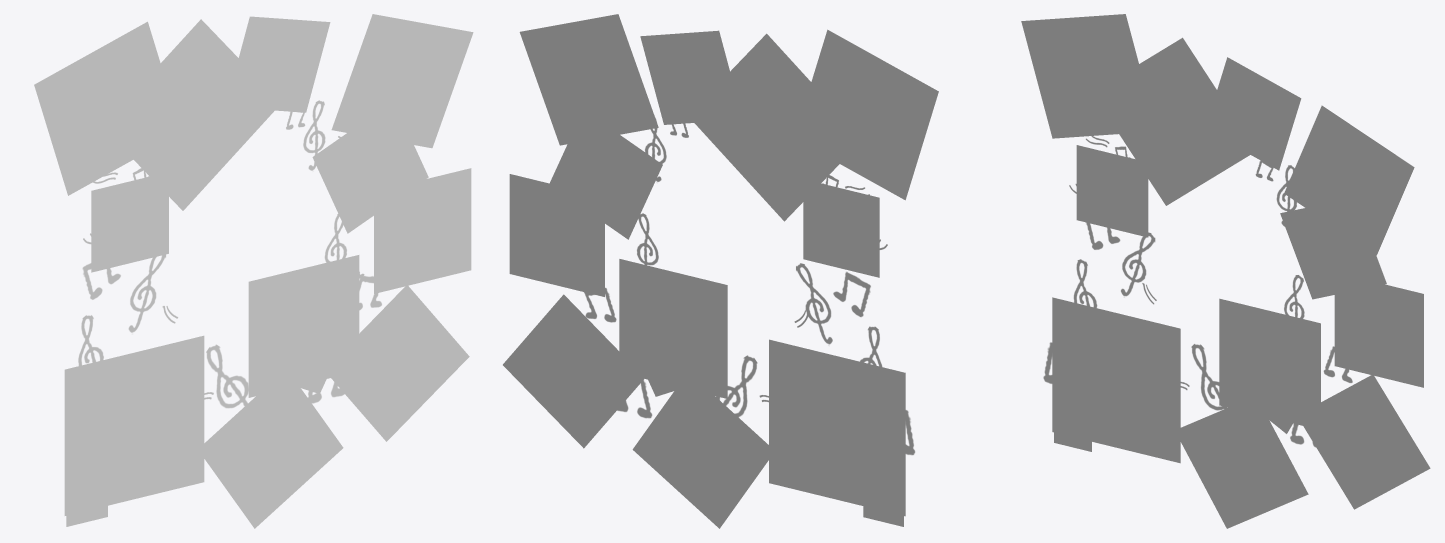
The picture shows the model from 3 angles, left to right: view 1: azimuth 30°, elevation 25°; view 2: azimuth 150°, elevation 25°; view 3: azimuth 330°, elevation 25°; orthographic projection. The views are drawn at different scales.
Parts seen in each view (by area): view 1: Zeichenfläche 2.001, Zeichenfläche 2.010, Zeichenfläche 2.012, Zeichenfläche 2.006, Zeichenfläche 2.004, Zeichenfläche 2.007, Zeichenfläche 2.009, Zeichenfläche 2.005, Zeichenfläche 2.011, Zeichenfläche 2, Zeichenfläche 2.003, Zeichenfläche 4.003 (+4 smaller); view 2: Zeichenfläche 2.001, Zeichenfläche 2.004, Zeichenfläche 2.010, Zeichenfläche 2.006, Zeichenfläche 2.007, Zeichenfläche 2.009, Zeichenfläche 2.012, Zeichenfläche 2.005, Zeichenfläche 2.003, Zeichenfläche 2, Zeichenfläche 2.011, Zeichenfläche 2.008 (+7 smaller); view 3: Zeichenfläche 2.001, Zeichenfläche 2.010, Zeichenfläche 2.012, Zeichenfläche 2.006, Zeichenfläche 2.004, Zeichenfläche 2.007, Zeichenfläche 2.009, Zeichenfläche 2.005, Zeichenfläche 2.011, Zeichenfläche 2, Zeichenfläche 2.003, Zeichenfläche 3.004 (+3 smaller).
Part boxes in pixels (left/top/right/bottom): Zeichenfläche 2.001: left=64, top=335, right=204, bottom=515; Zeichenfläche 2.010: left=34, top=21, right=181, bottom=195; Zeichenfläche 2.012: left=248, top=255, right=359, bottom=397; Zeichenfläche 2.006: left=331, top=14, right=473, bottom=148; Zeichenfläche 2.004: left=134, top=19, right=274, bottom=210; Zeichenfläche 2.007: left=204, top=386, right=343, bottom=528; Zeichenfläche 2.009: left=331, top=286, right=469, bottom=441; Zeichenfläche 2.005: left=374, top=168, right=471, bottom=293; Zeichenfläche 2.011: left=225, top=16, right=330, bottom=112; Zeichenfläche 2: left=91, top=172, right=168, bottom=272; Zeichenfläche 2.003: left=312, top=133, right=428, bottom=233; Zeichenfläche 4.003: left=206, top=344, right=248, bottom=408; Zeichenfläche 2.001: left=769, top=339, right=905, bottom=516; Zeichenfläche 2.004: left=688, top=33, right=863, bottom=221; Zeichenfläche 2.010: left=811, top=29, right=938, bottom=200; Zeichenfläche 2.006: left=519, top=14, right=658, bottom=145; Zeichenfläche 2.007: left=632, top=372, right=774, bottom=528; Zeichenfläche 2.009: left=503, top=294, right=644, bottom=448; Zeichenfläche 2.012: left=619, top=259, right=727, bottom=398; Zeichenfläche 2.005: left=509, top=174, right=604, bottom=296; Zeichenfläche 2.003: left=549, top=109, right=662, bottom=239; Zeichenfläche 2: left=803, top=183, right=879, bottom=277; Zeichenfläche 2.011: left=640, top=30, right=729, bottom=124; Zeichenfläche 2.008: left=863, top=474, right=903, bottom=526; Zeichenfläche 2.001: left=1052, top=297, right=1180, bottom=463; Zeichenfläche 2.010: left=1021, top=14, right=1156, bottom=138; Zeichenfläche 2.012: left=1219, top=298, right=1320, bottom=429; Zeichenfläche 2.006: left=1284, top=105, right=1414, bottom=255; Zeichenfläche 2.004: left=1119, top=37, right=1250, bottom=205; Zeichenfläche 2.007: left=1180, top=407, right=1308, bottom=528; Zeichenfläche 2.009: left=1303, top=375, right=1430, bottom=509; Zeichenfläche 2.005: left=1334, top=272, right=1423, bottom=387; Zeichenfläche 2.011: left=1205, top=57, right=1301, bottom=170; Zeichenfläche 2: left=1076, top=145, right=1148, bottom=237; Zeichenfläche 2.003: left=1280, top=208, right=1386, bottom=299; Zeichenfläche 3.004: left=1043, top=342, right=1081, bottom=387.
Bounding box in the file's own units: 2.53 × 2.79 × 0.1526.
5 materials, 5 textured.
